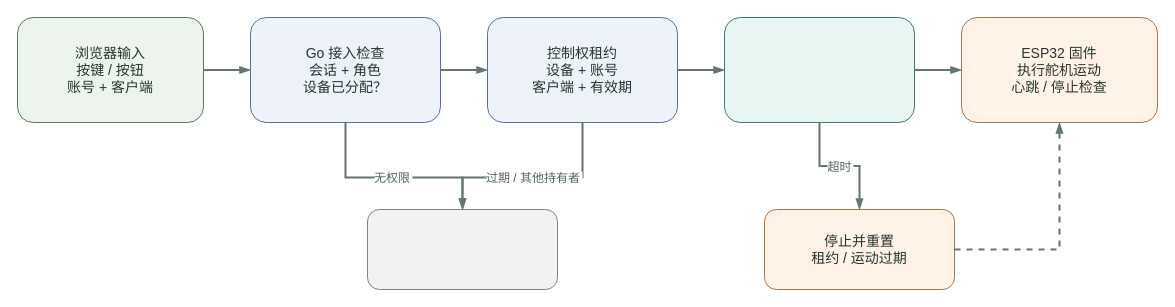
Some shapes in this 1175 by 307 pixel diagram are drawn without their labels. Each missing label, with the centre of its shape:
"拒绝指令 不下发运动" goes at pixel 462 249.
"运动队列 送达前检查过期 停止时清理旧运动" goes at pixel 819 69.
